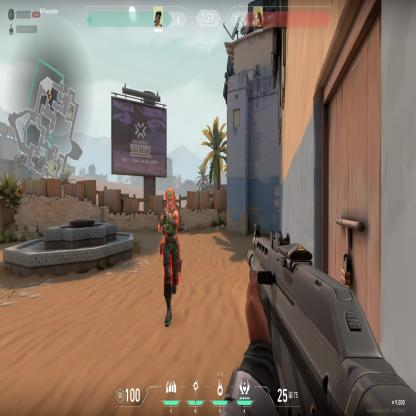enemy: (157, 186, 182, 330)
